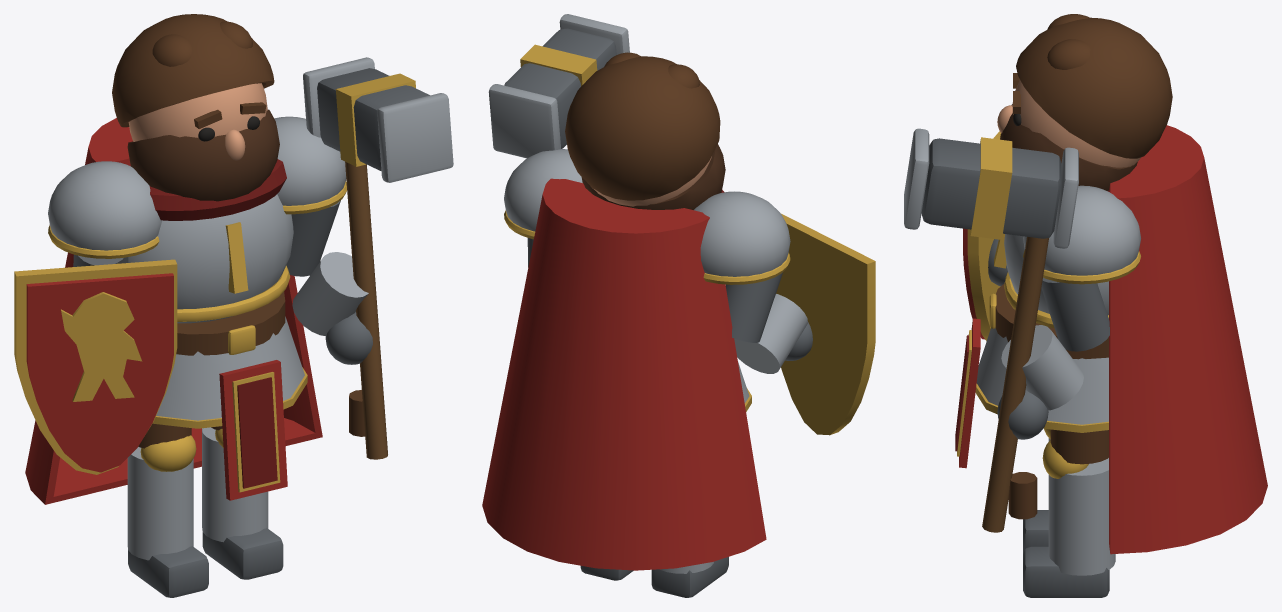
Rendered from Gareth.fbx.
The picture shows the model from 3 angles, left to right: view 1: azimuth 30°, elevation 25°; view 2: azimuth 150°, elevation 25°; view 3: azimuth 270°, elevation 25°; orthographic projection. The views are drawn at different scales.
Visible parts, largest first — view 1: Gareth; view 2: Gareth; view 3: Gareth.
Boxes of the visible parts, x1,y1,x2,y2 form: Gareth: (14,14,453,597); Gareth: (482,14,875,597); Gareth: (904,14,1267,597).
Size of the model in its own units: 1.02 by 1.39 by 0.8371.
